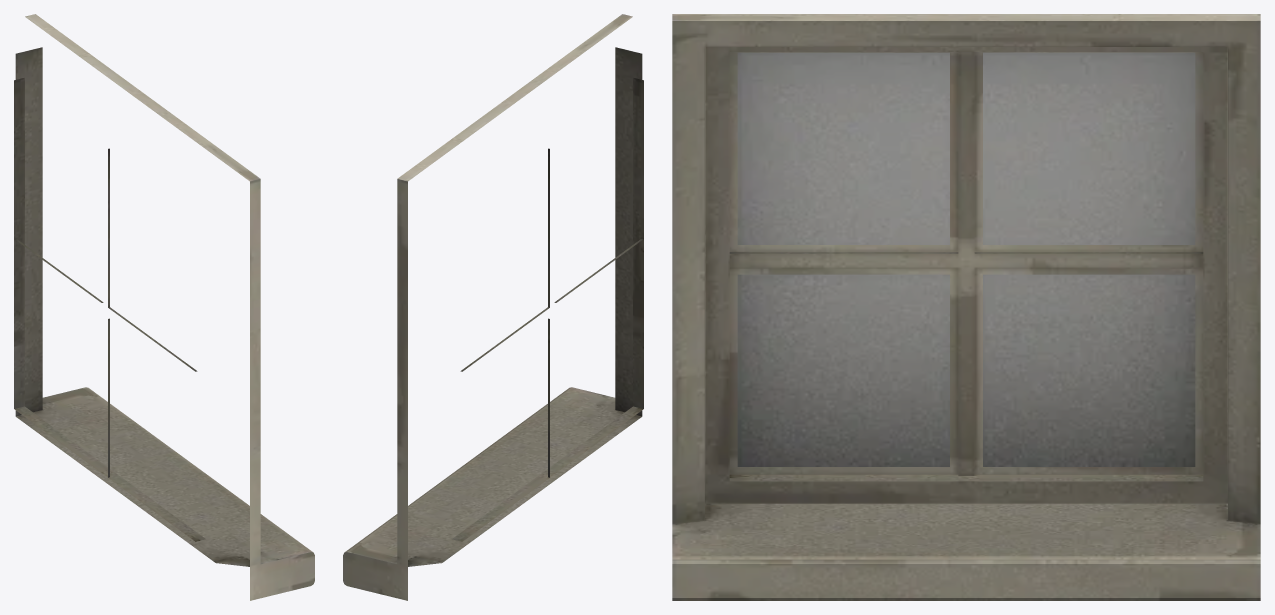
The picture shows the model from 3 angles, left to right: view 1: azimuth 30°, elevation 25°; view 2: azimuth 150°, elevation 25°; view 3: azimuth 270°, elevation 25°; orthographic projection. The views are drawn at different scales.
Parts seen in each view (by area): view 1: body0_model0_lod0_mesh0; view 2: body0_model0_lod0_mesh0; view 3: body0_model0_lod0_mesh0.
Part boxes in pixels (x1,y1,x2,y2): body0_model0_lod0_mesh0: (14,14,314,600); body0_model0_lod0_mesh0: (343,14,643,600); body0_model0_lod0_mesh0: (672,14,1260,600).
Size of the model in its own units: 13.5 by 55.5 by 54.
Materials: 1 (1 with a texture image).
